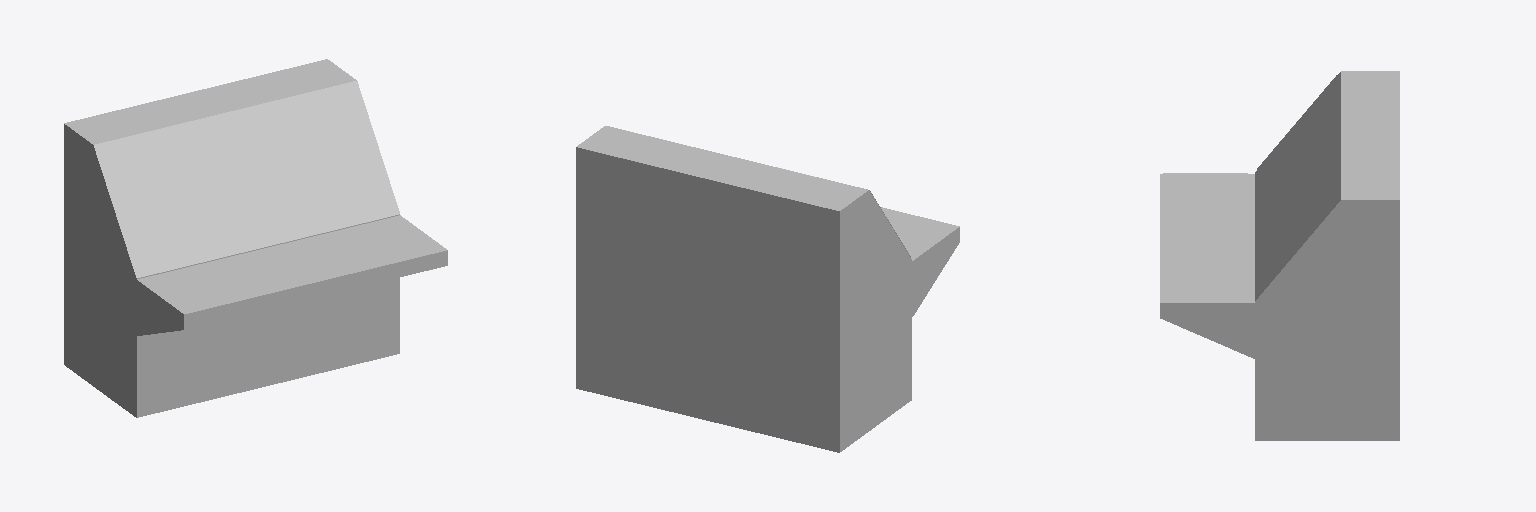
Rendered from control panel 1 final.obj.
The picture shows the model from 3 angles: view 1: azimuth 30°, elevation 25°; view 2: azimuth 150°, elevation 25°; view 3: azimuth 270°, elevation 25°; orthographic projection.
Visible parts, largest first — view 1: polySurface1 polySurface4 polySurface6, polySurface3 polySurface1, polySurface1 polySurface5 polySurface4; view 2: polySurface1 polySurface4 polySurface6, polySurface1 polySurface5 polySurface4; view 3: polySurface1 polySurface4 polySurface6, polySurface1 polySurface5 polySurface4, polySurface3 polySurface1.
Part boxes in pixels (bbox=[...]): polySurface1 polySurface4 polySurface6: bbox=[64, 59, 447, 417]; polySurface3 polySurface1: bbox=[96, 86, 397, 273]; polySurface1 polySurface5 polySurface4: bbox=[140, 217, 444, 311]; polySurface1 polySurface4 polySurface6: bbox=[576, 126, 959, 452]; polySurface1 polySurface5 polySurface4: bbox=[881, 208, 957, 256]; polySurface1 polySurface4 polySurface6: bbox=[1160, 71, 1399, 440]; polySurface1 polySurface5 polySurface4: bbox=[1163, 173, 1247, 300]; polySurface3 polySurface1: bbox=[1257, 75, 1336, 295].
Bounding box in the file's own units: 4.93 × 4.31 × 3.9.